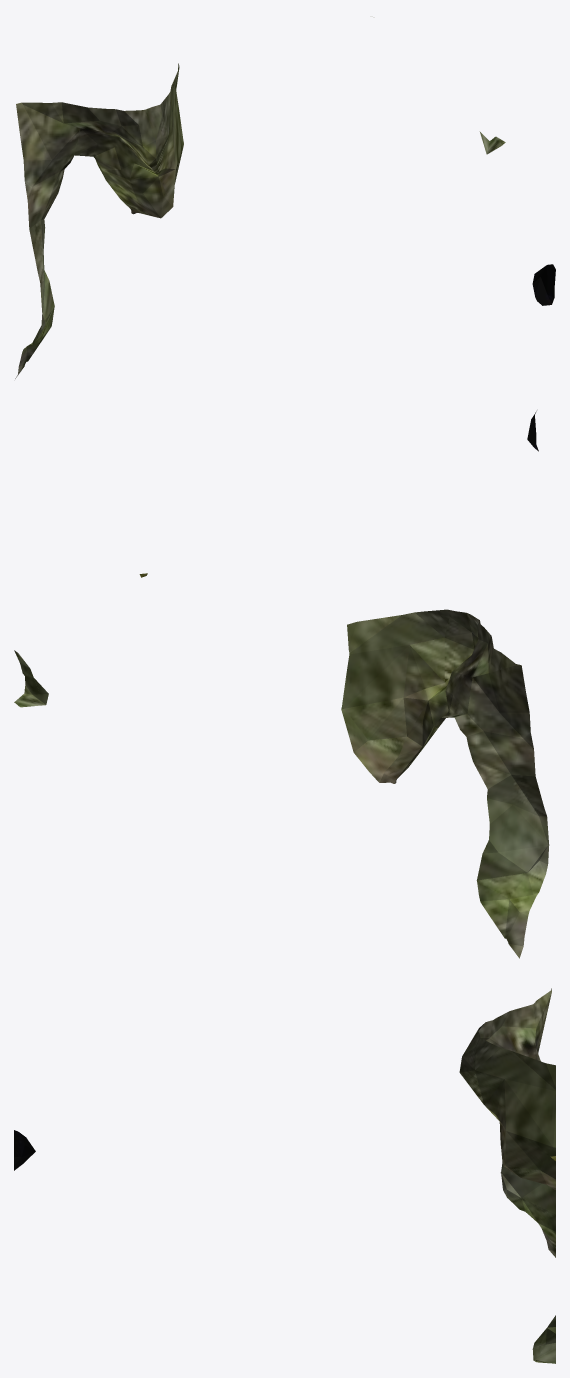
3 renders of one model, top to bottom at view 1: azimuth 30°, elevation 25°; view 2: azimuth 150°, elevation 25°; view 3: azimuth 270°, elevation 25°, orthographic. The views are drawn at different scales.
Size of the model in its own units: 2.95 by 1.63 by 2.95.
Materials: 1 (1 with a texture image).
